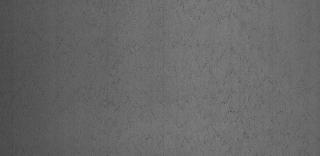silk spot: (172, 7, 310, 147), (84, 7, 166, 143)
